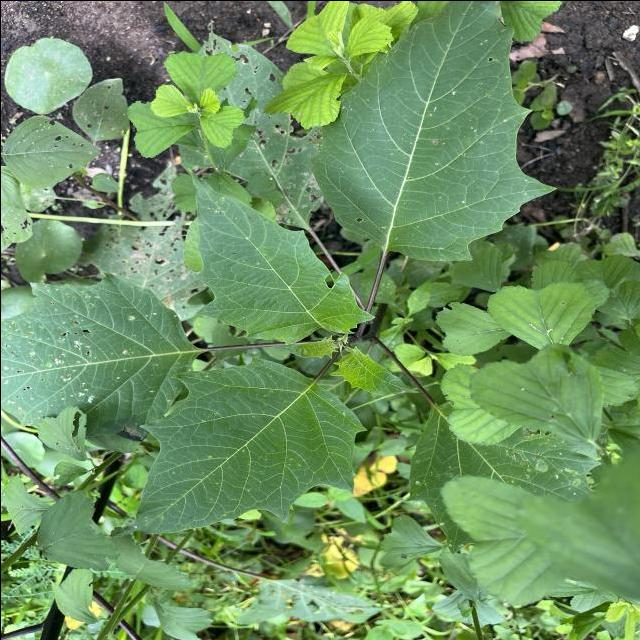Datura metal linn: (306, 0, 560, 263), (103, 353, 370, 540), (184, 160, 378, 350)
